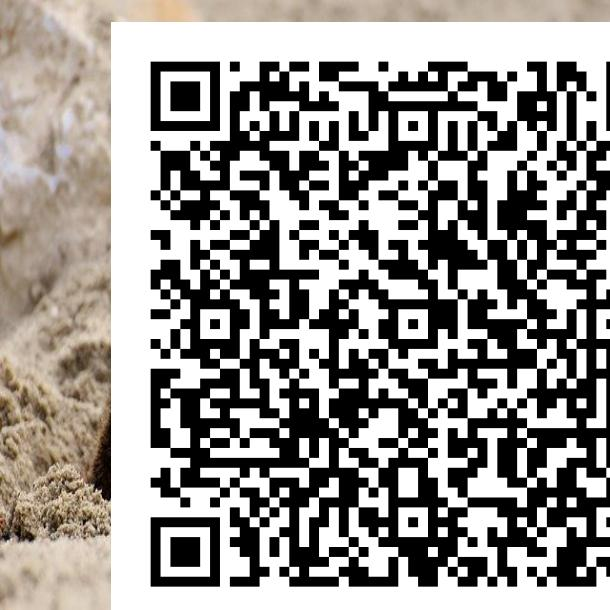qr_code: (111, 67, 609, 564)
